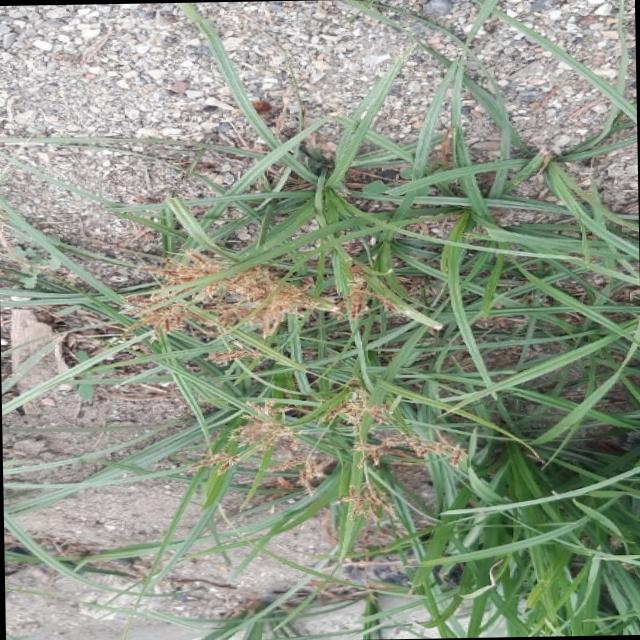cyperus: (200, 392, 464, 522), (116, 248, 324, 362)
